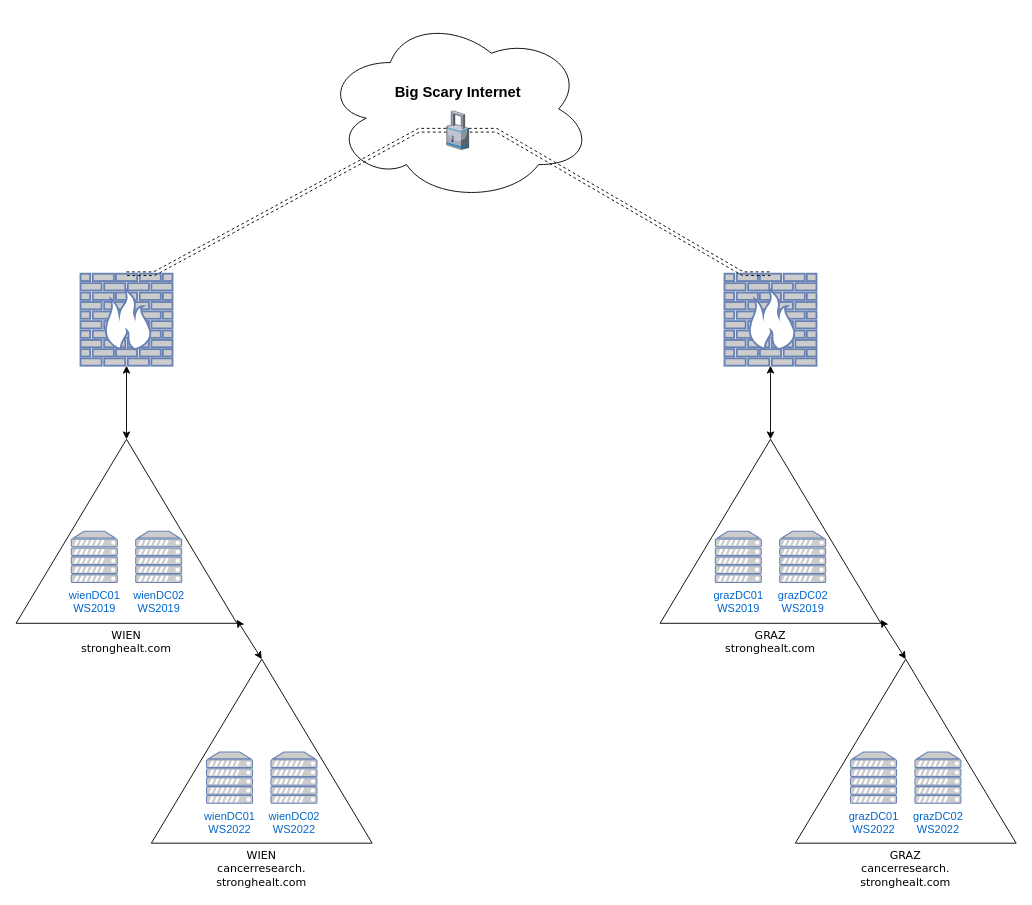
Some shapes in this 1032 by 905 pixel diagram are drawn without their labels. Here are the shapes that lost their labels. From the top down, the centre of each, then its label:
the point at 457,129: VPN - Site2Site
the point at 126,319: Wien FW
the point at 770,319: Graz FW
